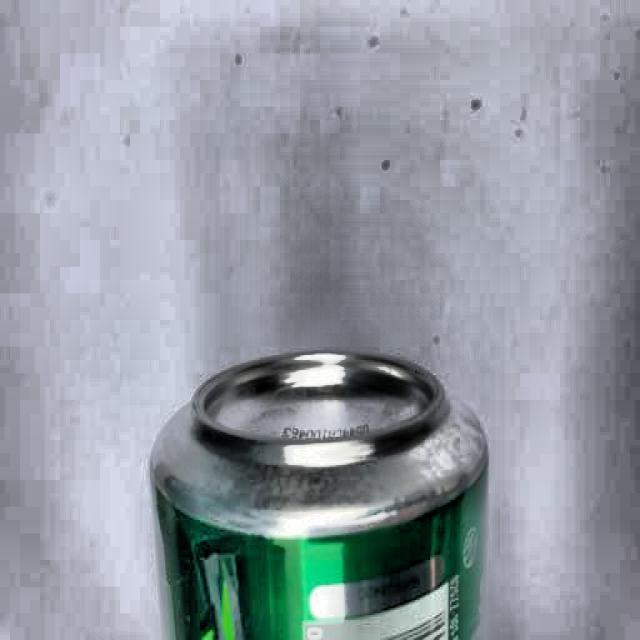metal: (146, 351, 489, 640)
